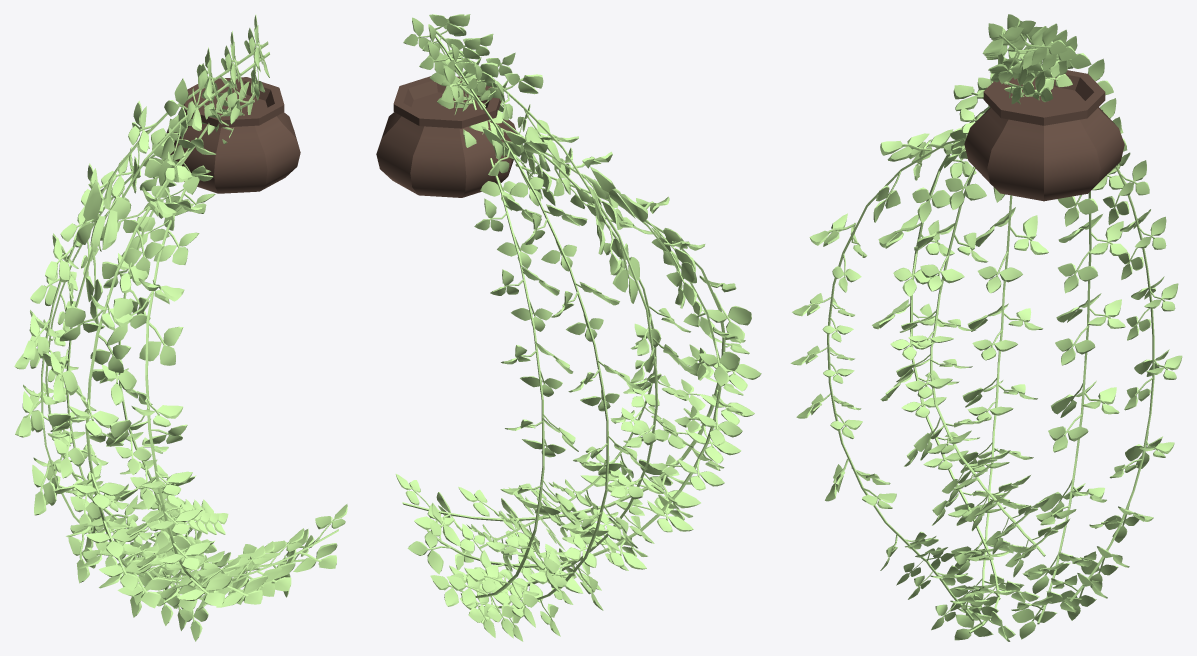
File: Succulent2.fbx
3 renders of one model, left to right at view 1: azimuth 30°, elevation 25°; view 2: azimuth 150°, elevation 25°; view 3: azimuth 270°, elevation 25°, orthographic. The views are drawn at different scales.
Visible parts, largest first — view 1: Pot.001; view 2: Pot.001; view 3: Pot.001.
Part boxes in pixels (x1=…): Pot.001: x1=14, y1=14, x2=347, y2=641; Pot.001: x1=376, y1=14, x2=761, y2=641; Pot.001: x1=790, y1=14, x2=1182, y2=641.
Bounding box in the file's own units: 131 × 233 × 124.
